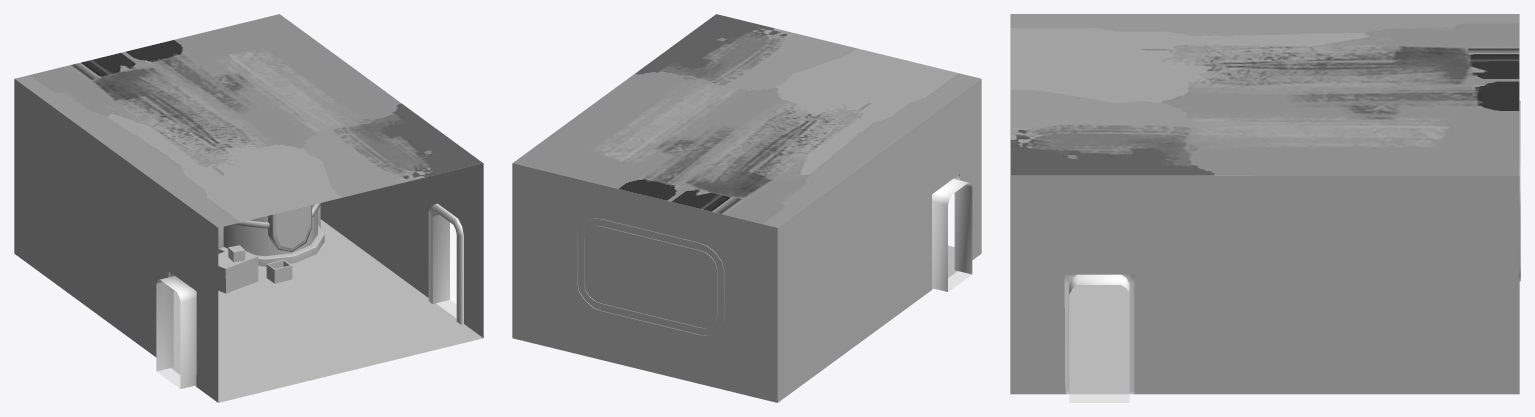
Rendered from MSH_QuestRobCo_L1_R1_optimized.fbx.
3 views of the same model, side by side, from view 1: azimuth 30°, elevation 25°; view 2: azimuth 150°, elevation 25°; view 3: azimuth 270°, elevation 25° (orthographic). The views are drawn at different scales.
Visible parts, largest first — view 1: lightmap3, lightmap12, lightmap8, lightmap0; view 2: lightmap12, lightmap3, lightmap0; view 3: lightmap12, lightmap3, lightmap8, lightmap0.
Part boxes in pixels (x1,y1,x2,y2): lightmap3: (15, 14, 482, 293); lightmap12: (14, 79, 483, 402); lightmap8: (171, 219, 482, 402); lightmap0: (156, 203, 463, 388); lightmap12: (512, 79, 981, 402); lightmap3: (513, 14, 980, 227); lightmap0: (577, 174, 972, 335); lightmap12: (1010, 175, 1519, 394); lightmap3: (1010, 14, 1519, 175); lightmap8: (1065, 285, 1134, 394); lightmap0: (1064, 100, 1520, 402).
Bounding box in the file's own units: 10.3 × 5.87 × 12.4.
